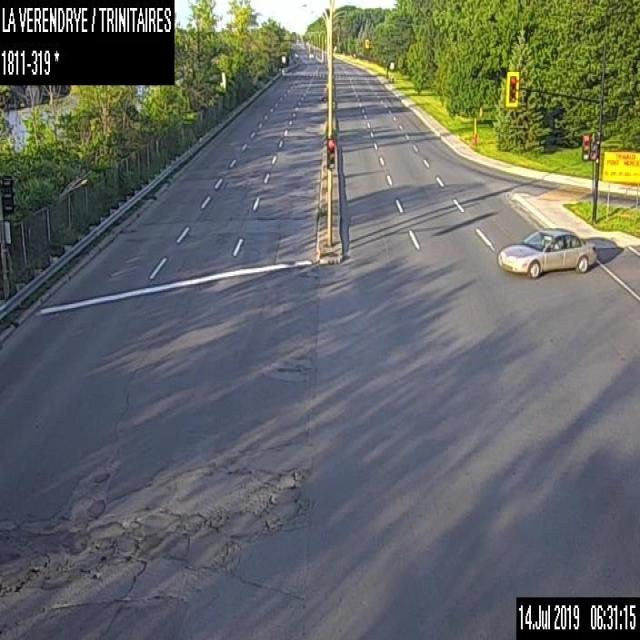vehicle: (496, 224, 596, 280)
